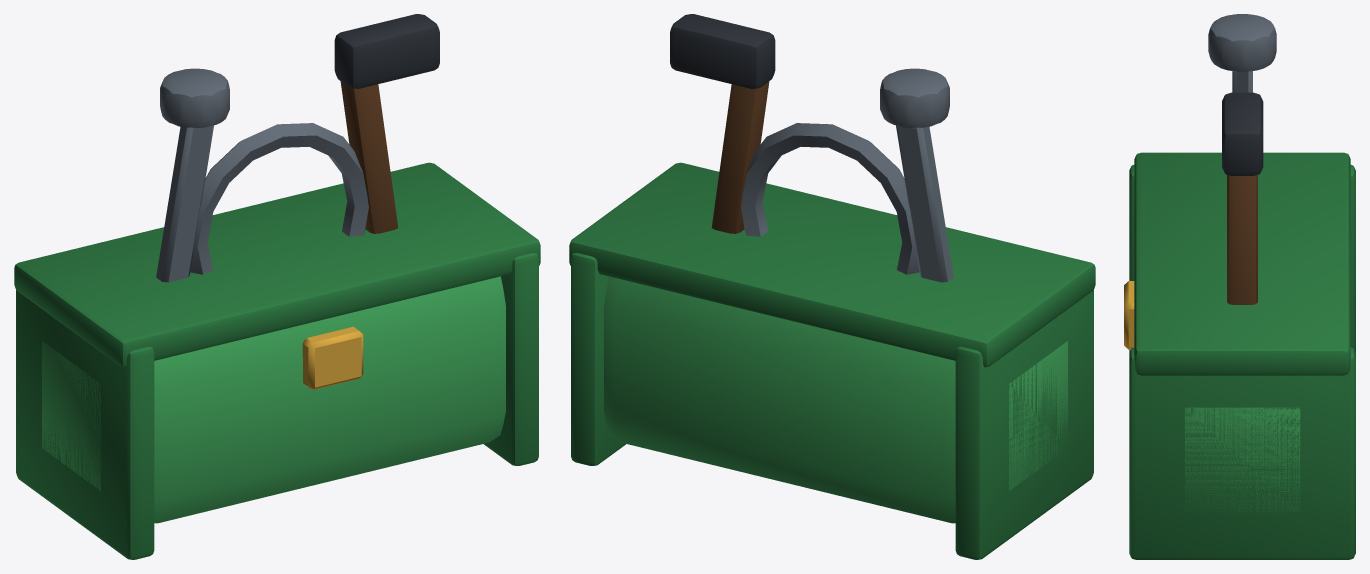
File: Toolbox.fbx
3 renders of one model, left to right at view 1: azimuth 30°, elevation 25°; view 2: azimuth 150°, elevation 25°; view 3: azimuth 270°, elevation 25°, orthographic. The views are drawn at different scales.
Visible parts, largest first — view 1: Toolbox; view 2: Toolbox; view 3: Toolbox.
Part boxes in pixels (box(x1,y1,x2,y2)): Toolbox: box(14, 14, 540, 559); Toolbox: box(569, 14, 1095, 559); Toolbox: box(1124, 14, 1355, 559).
Size of the model in its own units: 0.46 by 0.435 by 0.225.
